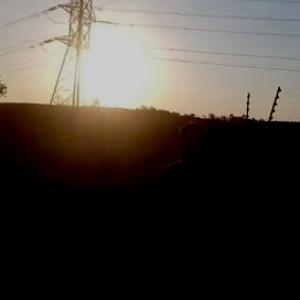follow: (149, 114, 224, 299)
